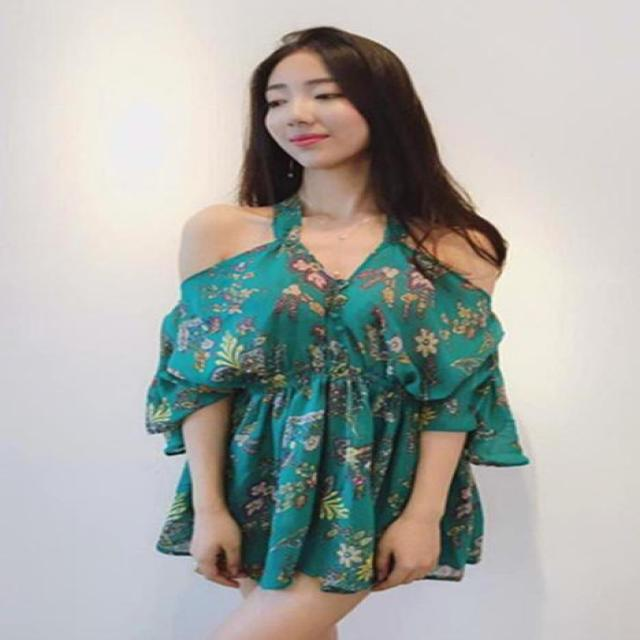short sleeve dress: (146, 197, 526, 590)
